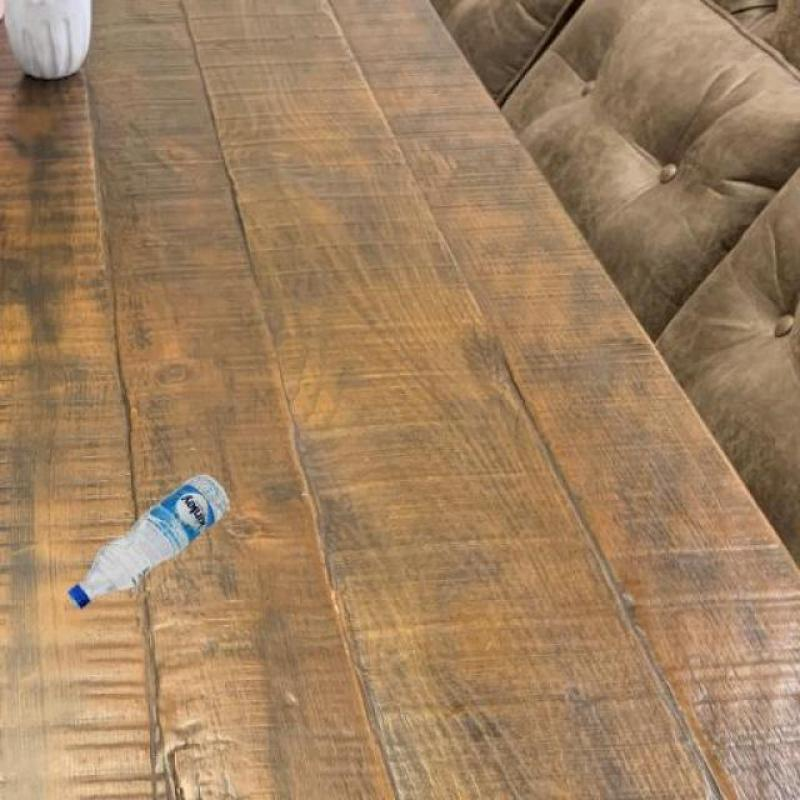botella: (70, 472, 228, 608)
